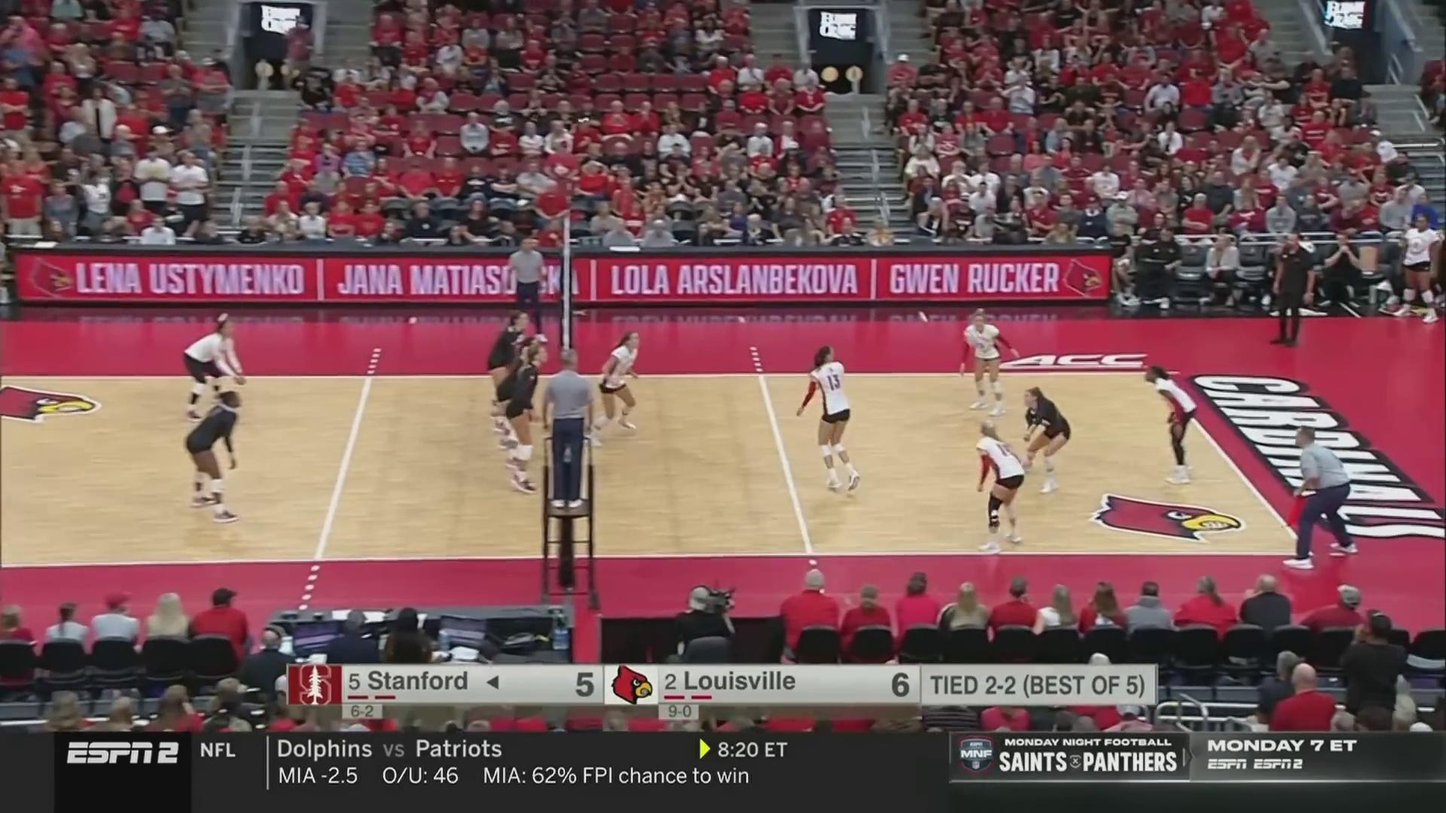player: (796, 345, 863, 491), (185, 391, 247, 518), (973, 423, 1028, 547), (181, 319, 247, 414), (1147, 362, 1197, 484), (960, 313, 1019, 415), (505, 345, 546, 491), (589, 333, 642, 445), (496, 334, 542, 460), (1018, 387, 1072, 493), (489, 311, 530, 447)
refree: (1283, 426, 1359, 568), (542, 349, 593, 507), (508, 236, 550, 343)
